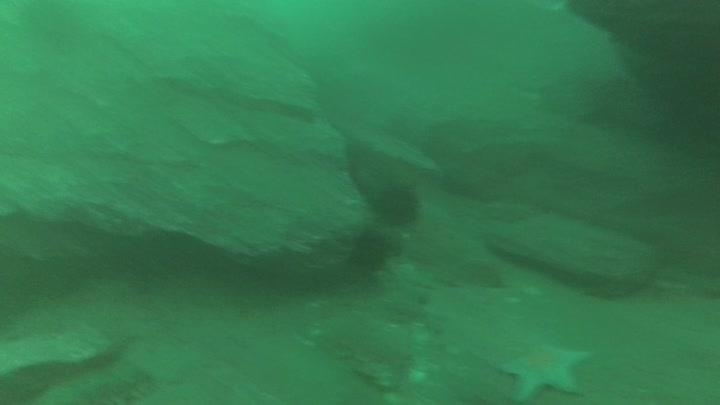echinus: (371, 180, 423, 229), (347, 226, 394, 274)
holothurian: (80, 366, 159, 403)
starfish: (494, 339, 595, 404)
